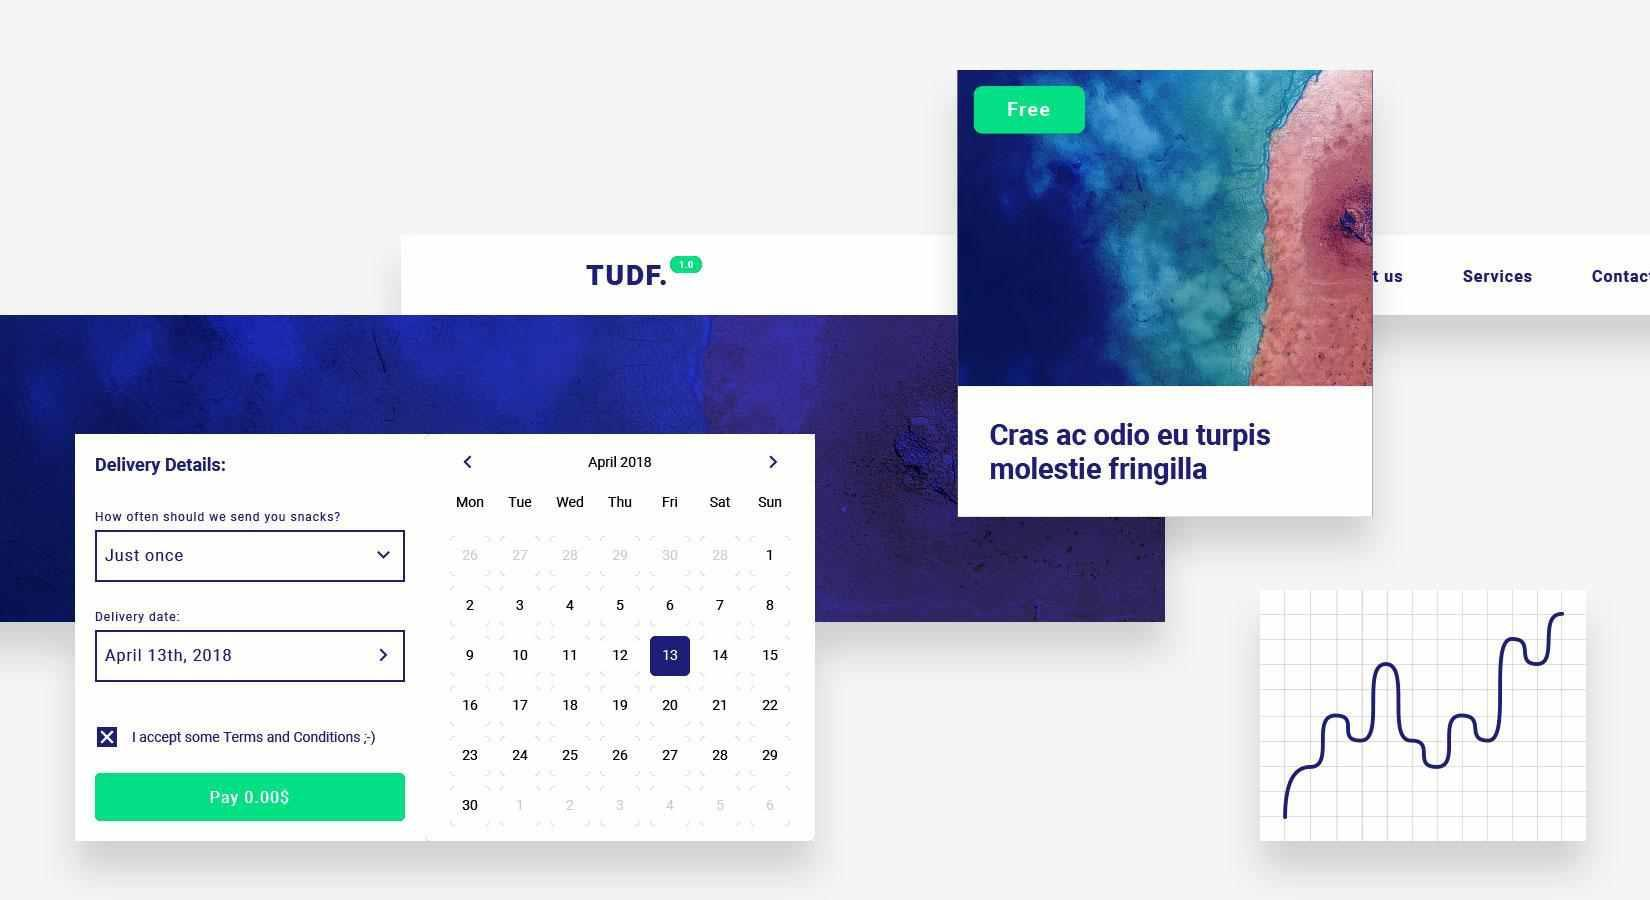button: (95, 773, 409, 824), (975, 86, 1086, 134)
checkbox: (94, 727, 121, 749)
dropdown: (96, 532, 406, 583)
input: (95, 632, 406, 684)
label: (981, 420, 1283, 490), (130, 729, 381, 750), (92, 509, 346, 525), (94, 453, 227, 475), (1461, 267, 1543, 287), (92, 611, 184, 626)
